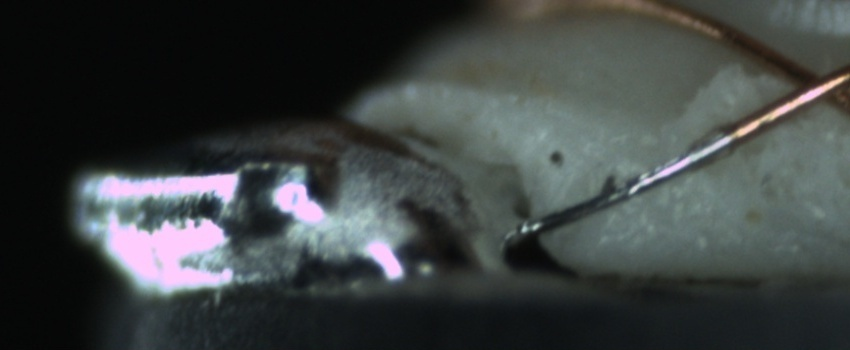CL: (768, 50, 849, 118)
TS: (527, 125, 735, 237)
